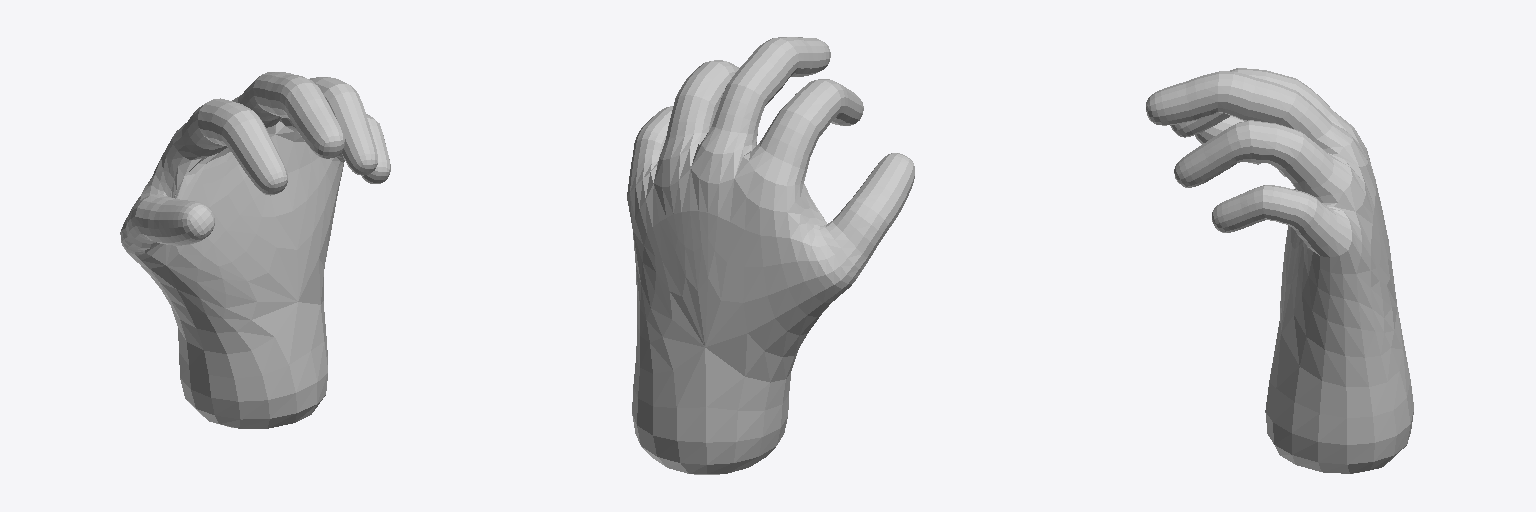
The model's file is handanimatsion34.obj.
The picture shows the model from 3 angles: view 1: azimuth 30°, elevation 25°; view 2: azimuth 150°, elevation 25°; view 3: azimuth 270°, elevation 25°; orthographic projection.
Visible parts, largest first — view 1: Cube; view 2: Cube; view 3: Cube.
Part boxes in pixels (bbox=[...]): Cube: bbox=[120, 72, 390, 428]; Cube: bbox=[627, 37, 914, 474]; Cube: bbox=[1146, 68, 1413, 473].
Bounding box in the file's own units: 3.28 × 5 × 3.18.